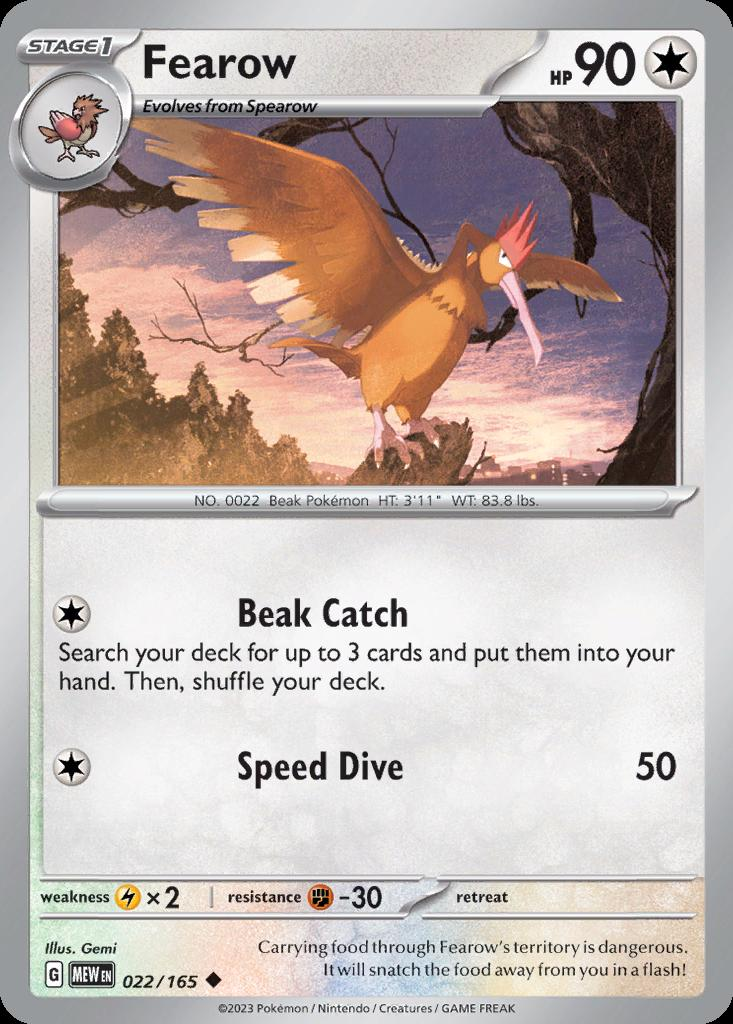card: (3, 0, 733, 1024)
hp: (526, 24, 706, 91)
name: (127, 31, 304, 96)
set num: (114, 953, 227, 999)
set symbol: (64, 954, 119, 996)
